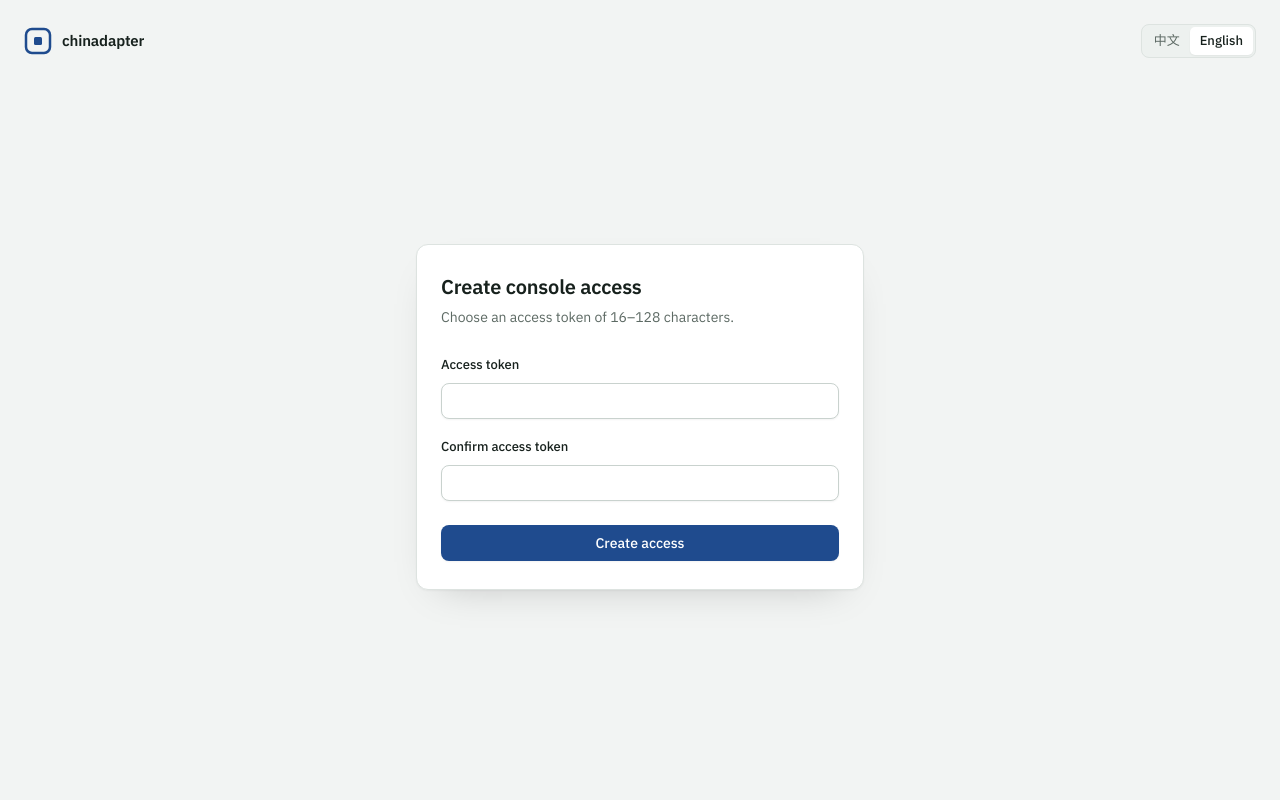
access token and browser session › validates token byte guidance and matching confirmation before setup
Expected: the heading "Create console access" is shown, 441,273 -> 642,300
Type "too-short" into the password field labelled "Access token" at coordinates (640, 401), box 441,383 -> 839,419
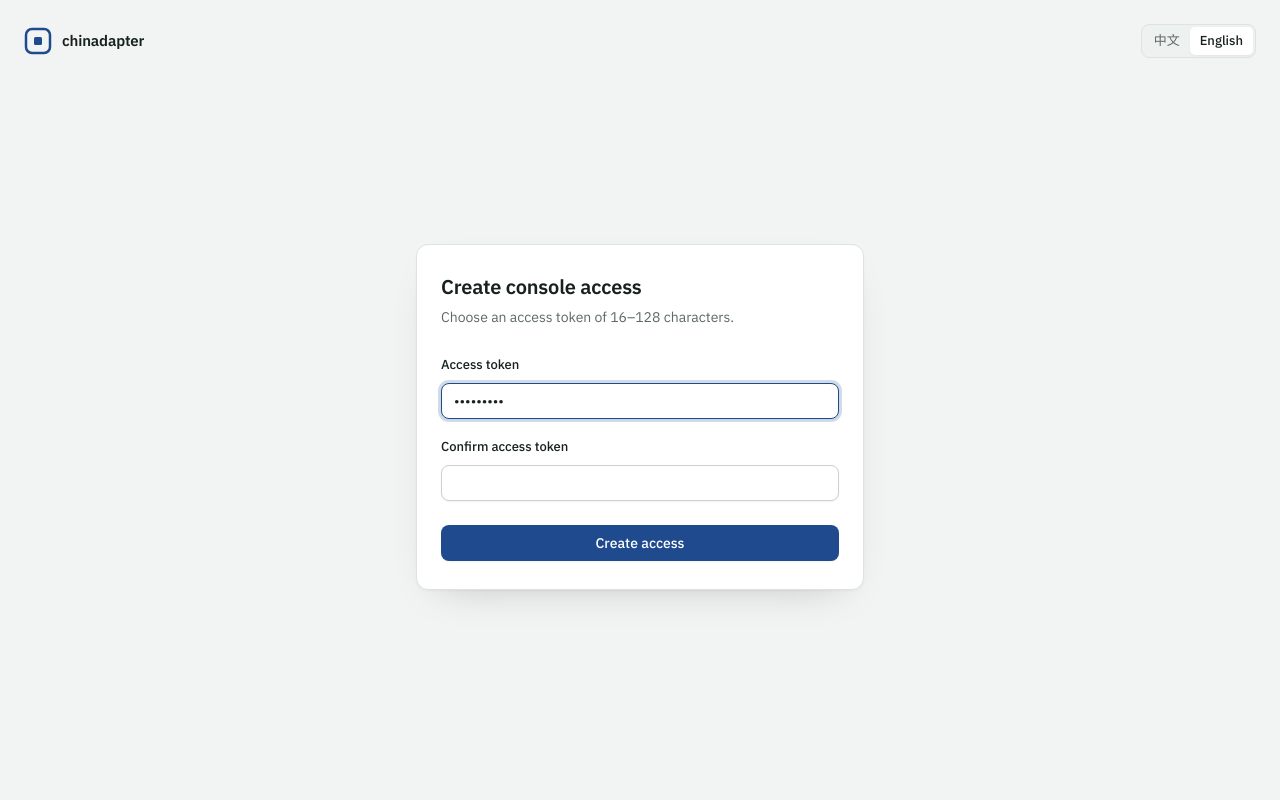
Type "too-short" into the password field labelled "Confirm access token" at coordinates (640, 483), box 441,465 -> 839,501
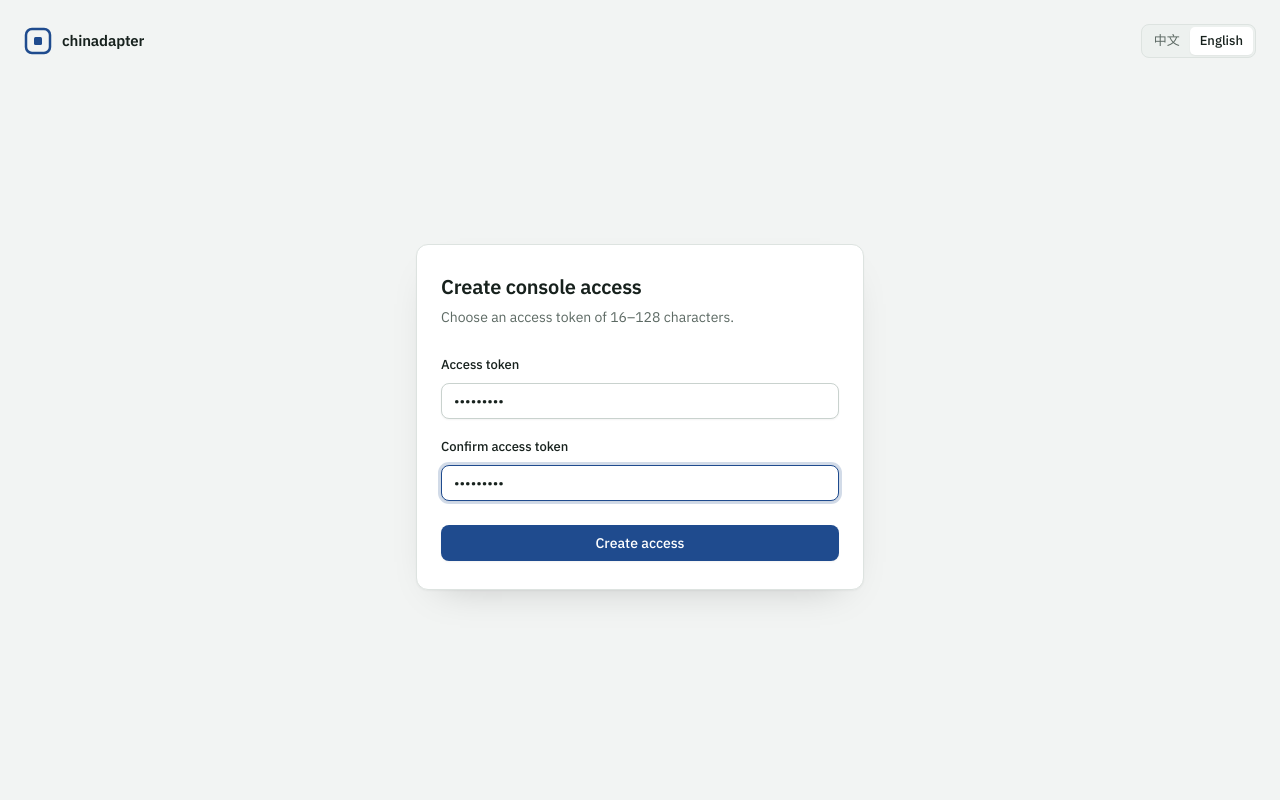
Click the button "Create access" at coordinates (640, 543), box 441,525 -> 839,561
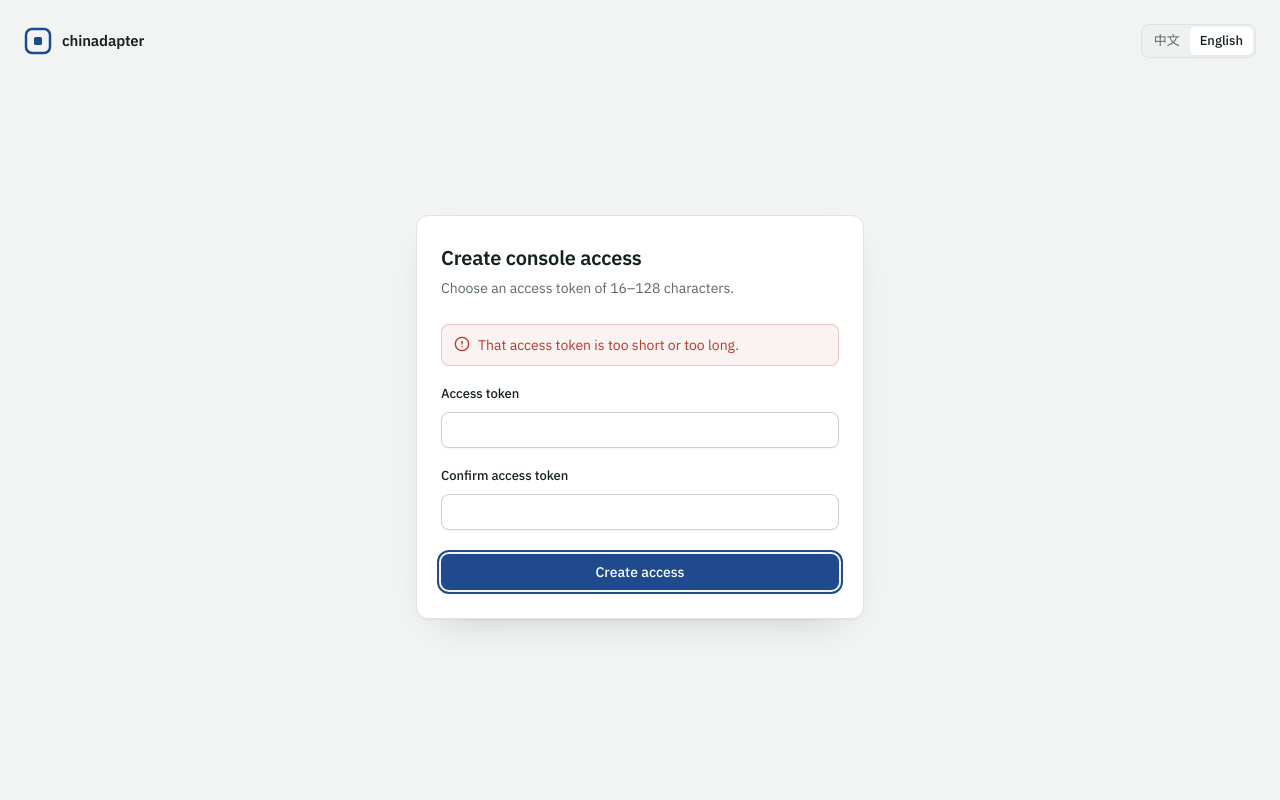
Expected: the message shows "too short or too long", 478,336 -> 739,354
Type "console-token-12345" into the password field labelled "Access token" at coordinates (640, 430), box 441,412 -> 839,448
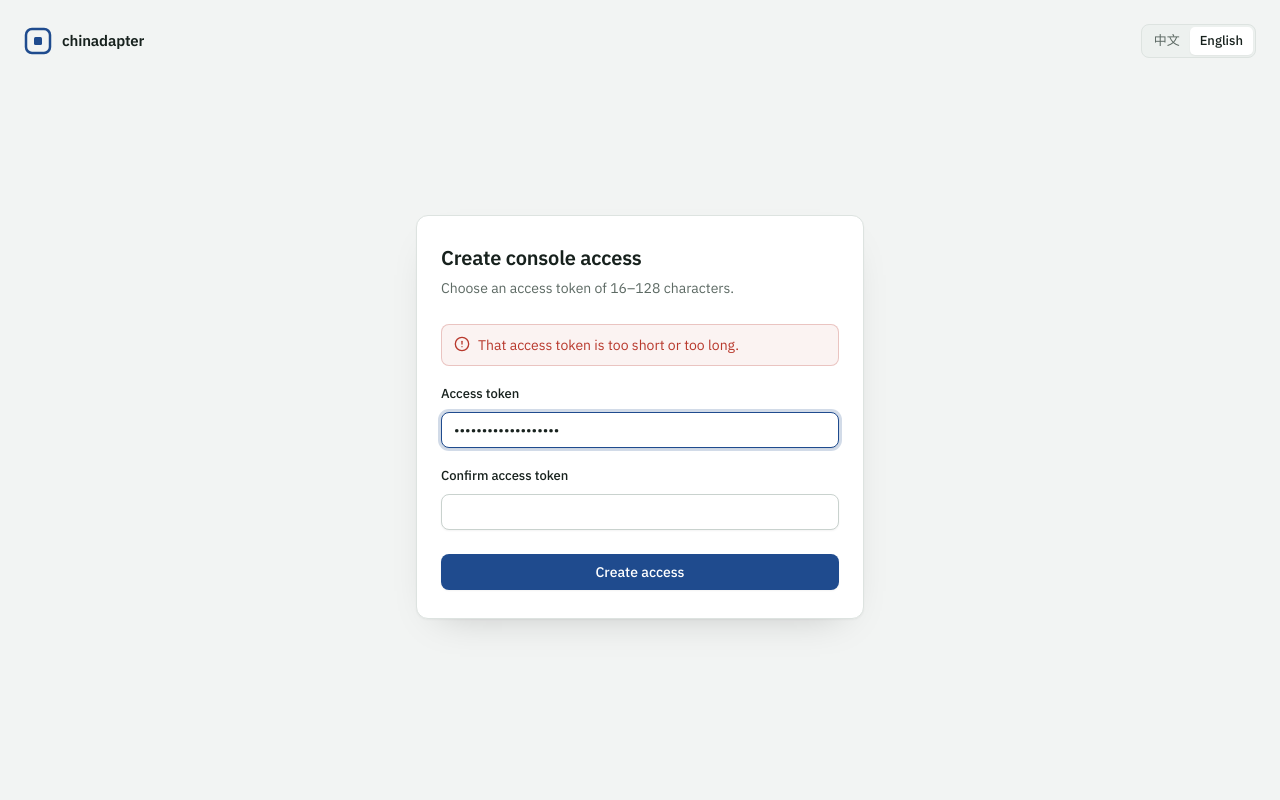
Type "different-token-12345" into the password field labelled "Confirm access token" at coordinates (640, 512), box 441,494 -> 839,530
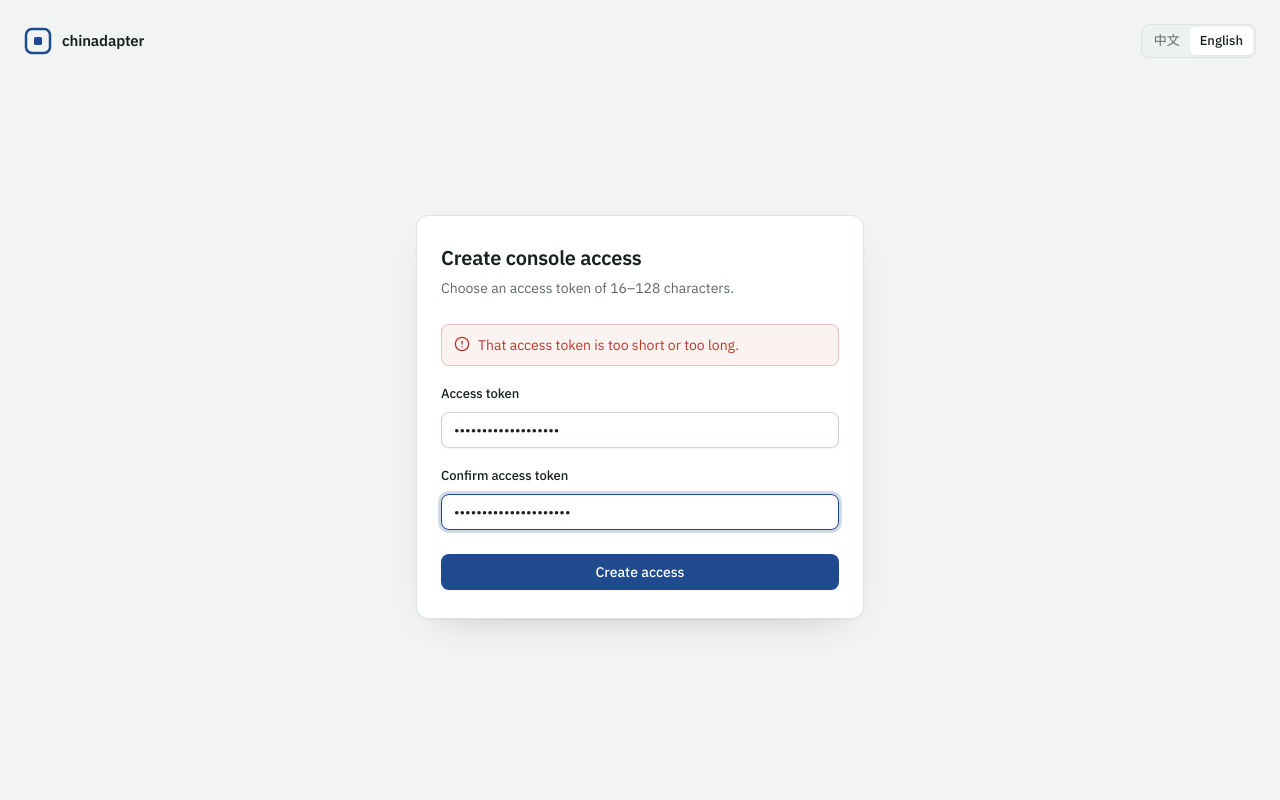
Click the button "Create access" at coordinates (640, 572), box 441,554 -> 839,590
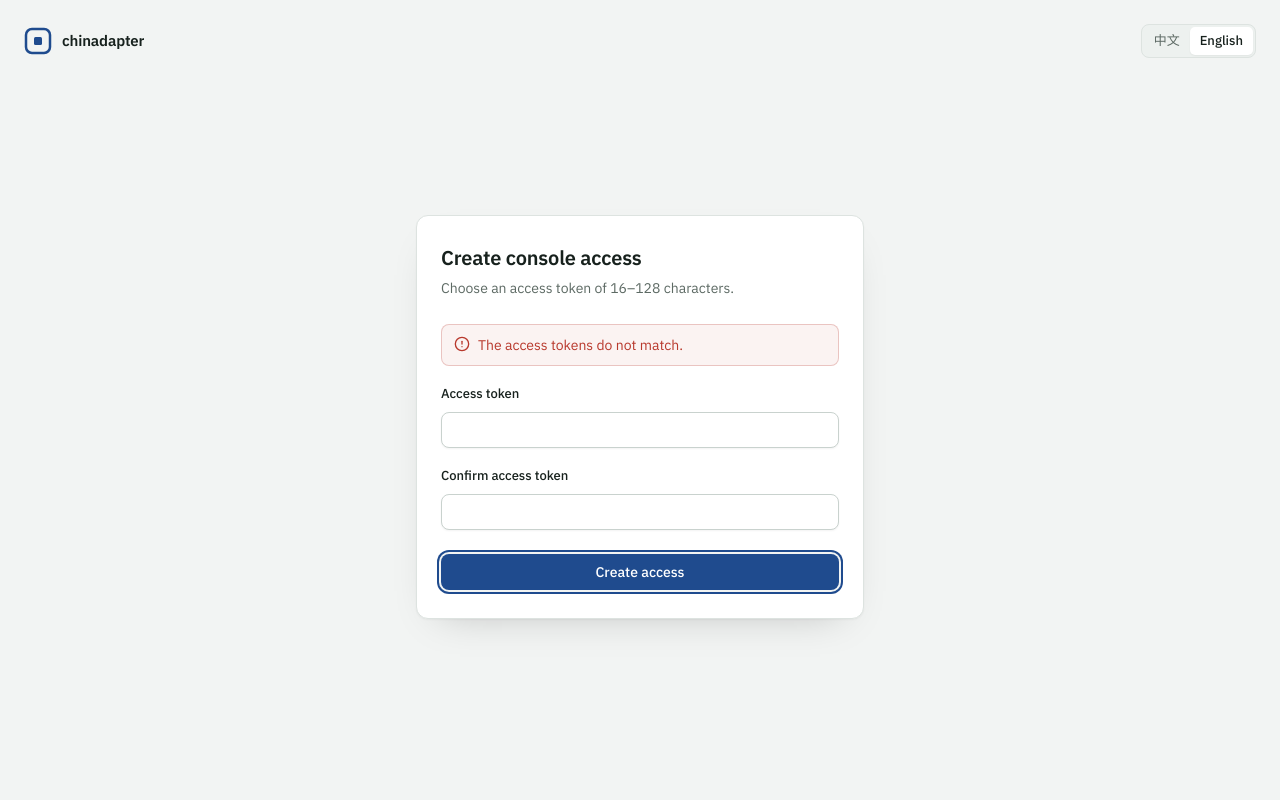
Expected: the text "The access tokens do not match." is shown, 478,335 -> 683,355
